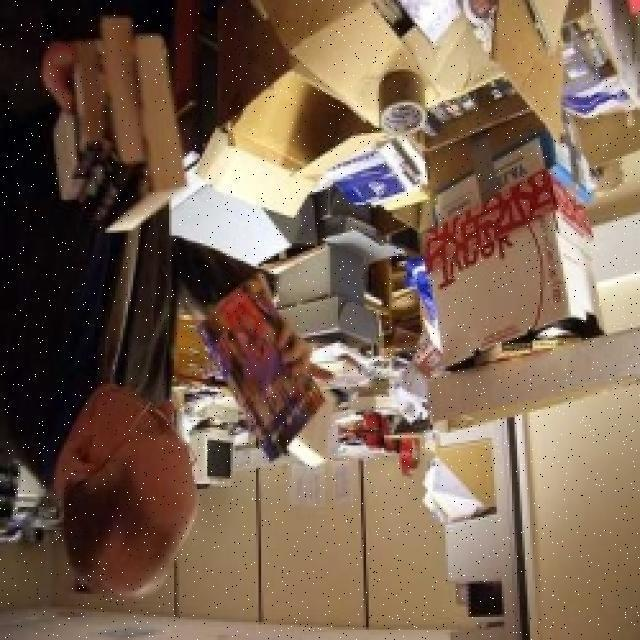box: (413, 158, 600, 368), (276, 0, 596, 108), (425, 323, 640, 458), (222, 20, 379, 174), (281, 251, 377, 360)
